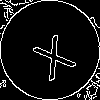X: (25, 25, 78, 82)
